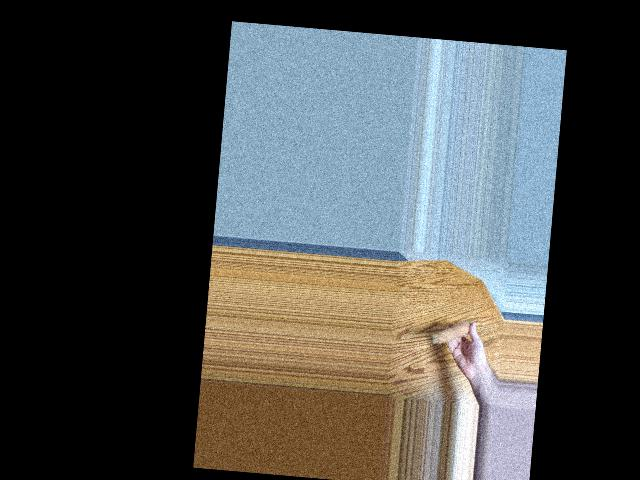sweet_potato: (430, 317, 474, 349)
